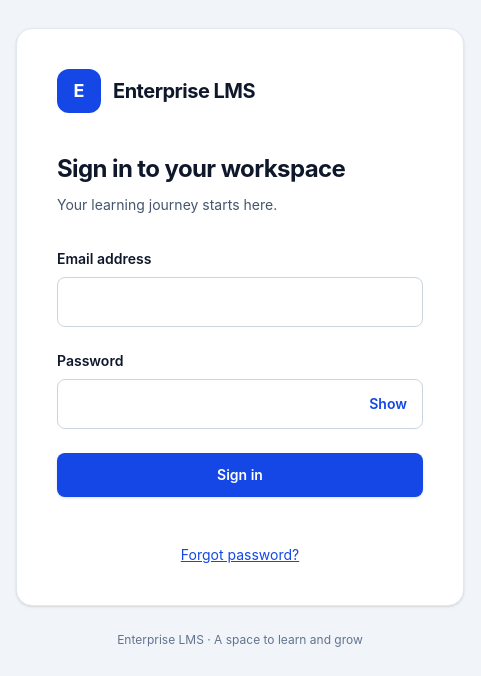
LoginComponent › shows only safe validation errors, clears the password and does not retry a rejected login
The image size is (481, 676).
Type "learner@example.com" into the field with id "email". click: (240, 302)
box: [57, 277, 423, 327]
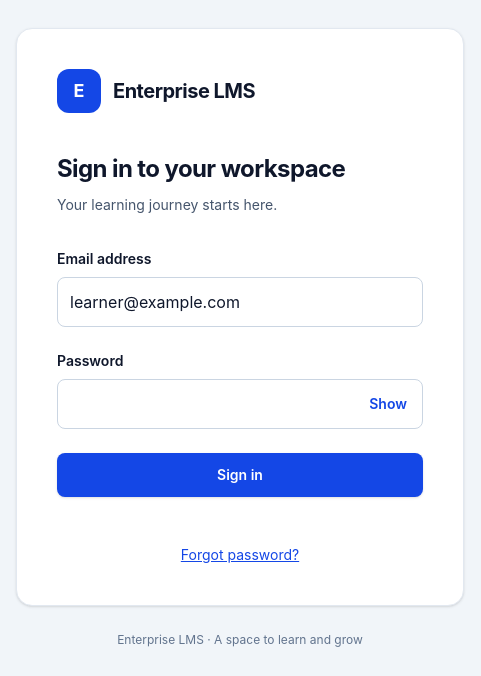
Type "example-password" into the password field labelled "Password". click: (240, 404)
box: [57, 379, 423, 429]
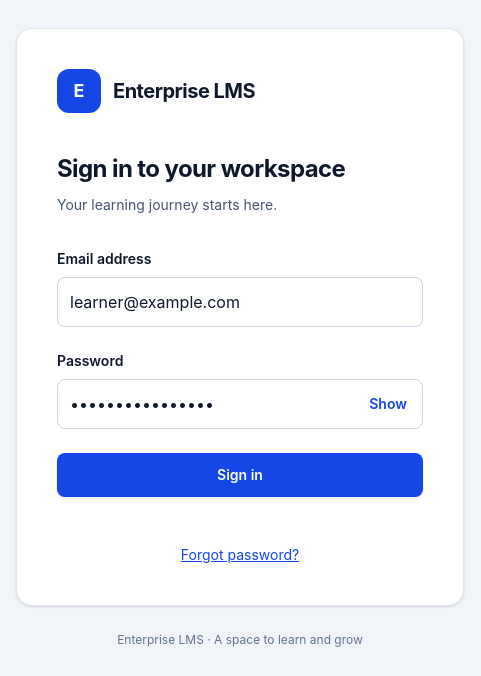
Submit the form, box [57, 249, 423, 565]
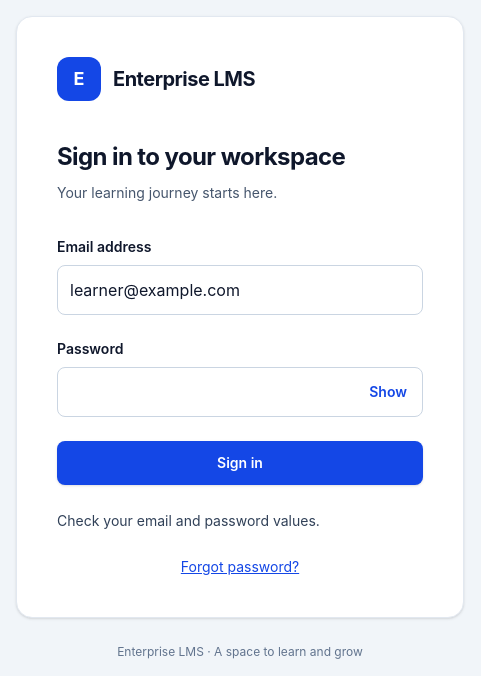
Check: the text "Check your email and password values." is shown, box [57, 512, 320, 529]
